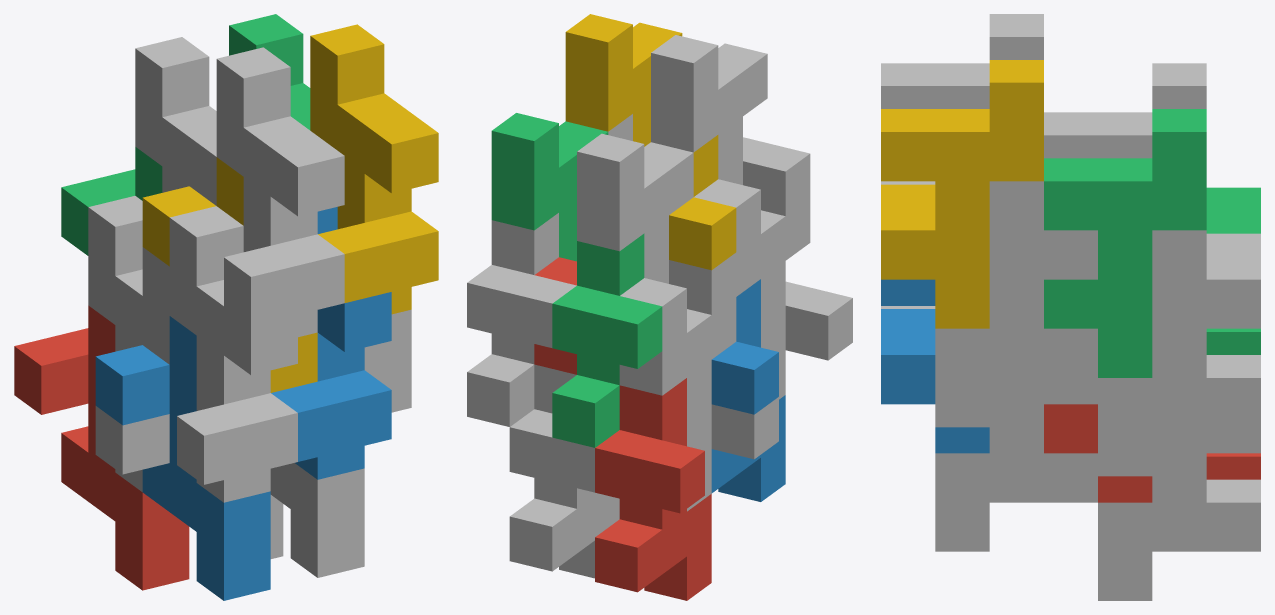
Rendered from tiling.obj.
3 renders of one model, left to right at view 1: azimuth 30°, elevation 25°; view 2: azimuth 150°, elevation 25°; view 3: azimuth 270°, elevation 25°, orthographic. The views are drawn at different scales.
Visible parts, largest first — view 1: copy_2_domain_4, copy_2_domain_2, copy_2_domain_8, copy_1_domain_2, copy_1_domain_1, copy_2_domain_6, copy_2_domain_1, copy_2_domain_3, copy_1_domain_6, copy_1_domain_4, copy_1_domain_3, copy_2_domain_7 (+2 smaller); view 2: copy_1_domain_1, copy_2_domain_4, copy_1_domain_3, copy_2_domain_3, copy_1_domain_7, copy_1_domain_5, copy_2_domain_2, copy_2_domain_1, copy_2_domain_7, copy_2_domain_8, copy_1_domain_2, copy_1_domain_4 (+1 smaller); view 3: copy_2_domain_8, copy_1_domain_7, copy_2_domain_7, copy_1_domain_8, copy_1_domain_5, copy_1_domain_6, copy_2_domain_6, copy_2_domain_4, copy_2_domain_3, copy_2_domain_5, copy_1_domain_3, copy_1_domain_1.
Boxes of the visible parts, x1=… form: copy_2_domain_4: x1=216, y1=47, x2=344, y2=337; copy_2_domain_2: x1=169, y1=206, x2=297, y2=502; copy_2_domain_8: x1=310, y1=24, x2=438, y2=314; copy_1_domain_2: x1=95, y1=316, x2=270, y2=600; copy_1_domain_1: x1=14, y1=305, x2=189, y2=590; copy_2_domain_6: x1=271, y1=207, x2=391, y2=479; copy_2_domain_1: x1=88, y1=196, x2=169, y2=491; copy_2_domain_3: x1=135, y1=37, x2=216, y2=315; copy_1_domain_6: x1=270, y1=463, x2=364, y2=577; copy_1_domain_4: x1=142, y1=157, x2=317, y2=392; copy_1_domain_3: x1=61, y1=147, x2=162, y2=255; copy_2_domain_7: x1=229, y1=14, x2=310, y2=130; copy_1_domain_1: x1=595, y1=378, x2=711, y2=600; copy_2_domain_4: x1=651, y1=35, x2=810, y2=215; copy_1_domain_3: x1=552, y1=233, x2=662, y2=447; copy_2_domain_3: x1=577, y1=133, x2=736, y2=314; copy_1_domain_7: x1=467, y1=213, x2=576, y2=426; copy_1_domain_5: x1=509, y1=364, x2=619, y2=578; copy_2_domain_2: x1=694, y1=179, x2=852, y2=399; copy_2_domain_1: x1=619, y1=278, x2=778, y2=511; copy_2_domain_7: x1=491, y1=113, x2=608, y2=261; copy_2_domain_8: x1=565, y1=14, x2=682, y2=146; copy_1_domain_2: x1=711, y1=279, x2=785, y2=501; copy_1_domain_4: x1=669, y1=135, x2=736, y2=270; copy_2_domain_8: x1=881, y1=60, x2=1043, y2=328; copy_1_domain_7: x1=1098, y1=230, x2=1260, y2=476; copy_2_domain_7: x1=1044, y1=109, x2=1206, y2=377; copy_1_domain_8: x1=935, y1=181, x2=1097, y2=427; copy_1_domain_5: x1=1098, y1=427, x2=1260, y2=600; copy_1_domain_6: x1=935, y1=378, x2=1097, y2=551; copy_2_domain_6: x1=881, y1=279, x2=989, y2=453; copy_2_domain_4: x1=881, y1=14, x2=1043, y2=184; copy_2_domain_3: x1=1044, y1=63, x2=1206, y2=158; copy_2_domain_5: x1=1044, y1=404, x2=1152, y2=502; copy_1_domain_3: x1=1206, y1=187, x2=1260, y2=354; copy_1_domain_1: x1=1206, y1=453, x2=1260, y2=479.
Bounding box in the file's own units: 5 × 11 × 7.
